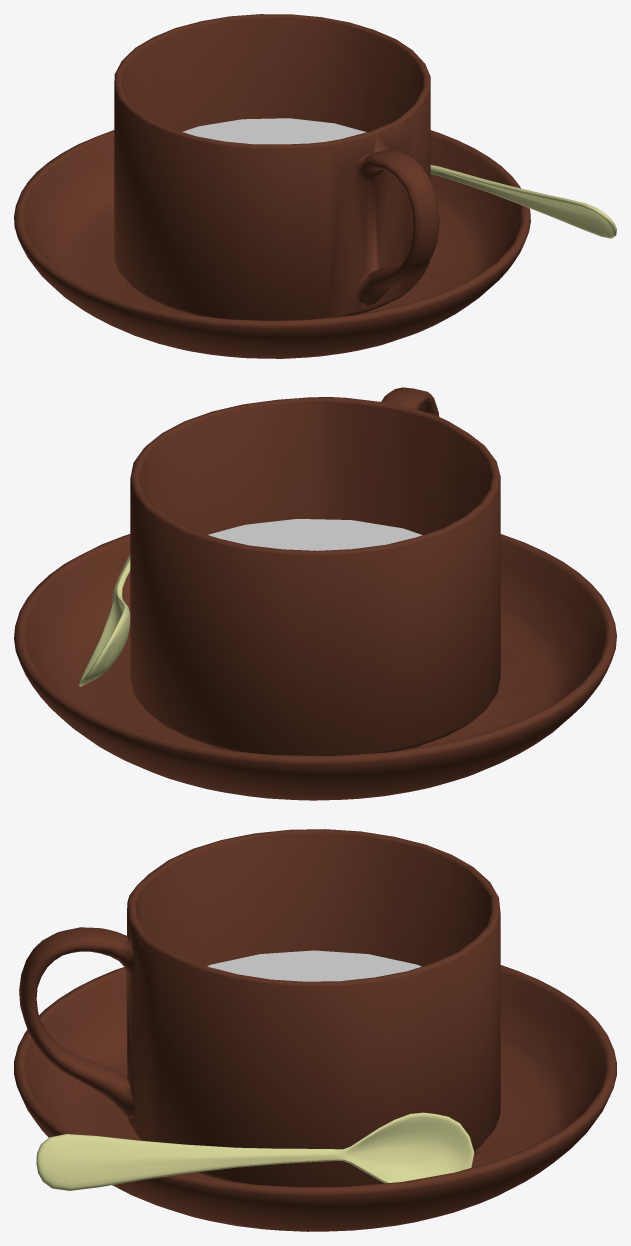
The model's file is TEACUP.fbx.
3 renders of one model, top to bottom at view 1: azimuth 30°, elevation 25°; view 2: azimuth 150°, elevation 25°; view 3: azimuth 270°, elevation 25°, orthographic. The views are drawn at different scales.
Visible parts, largest first — view 1: table 61 2017 table 61 2017 [449463].002; view 2: table 61 2017 table 61 2017 [449463].002; view 3: table 61 2017 table 61 2017 [449463].002.
Part boxes in pixels (left/top/right/bottom): table 61 2017 table 61 2017 [449463].002: left=14, top=14, right=616, bottom=358; table 61 2017 table 61 2017 [449463].002: left=14, top=387, right=616, bottom=800; table 61 2017 table 61 2017 [449463].002: left=14, top=829, right=616, bottom=1231.
Size of the model in its own units: 15.02 by 6.22 by 14.85.
